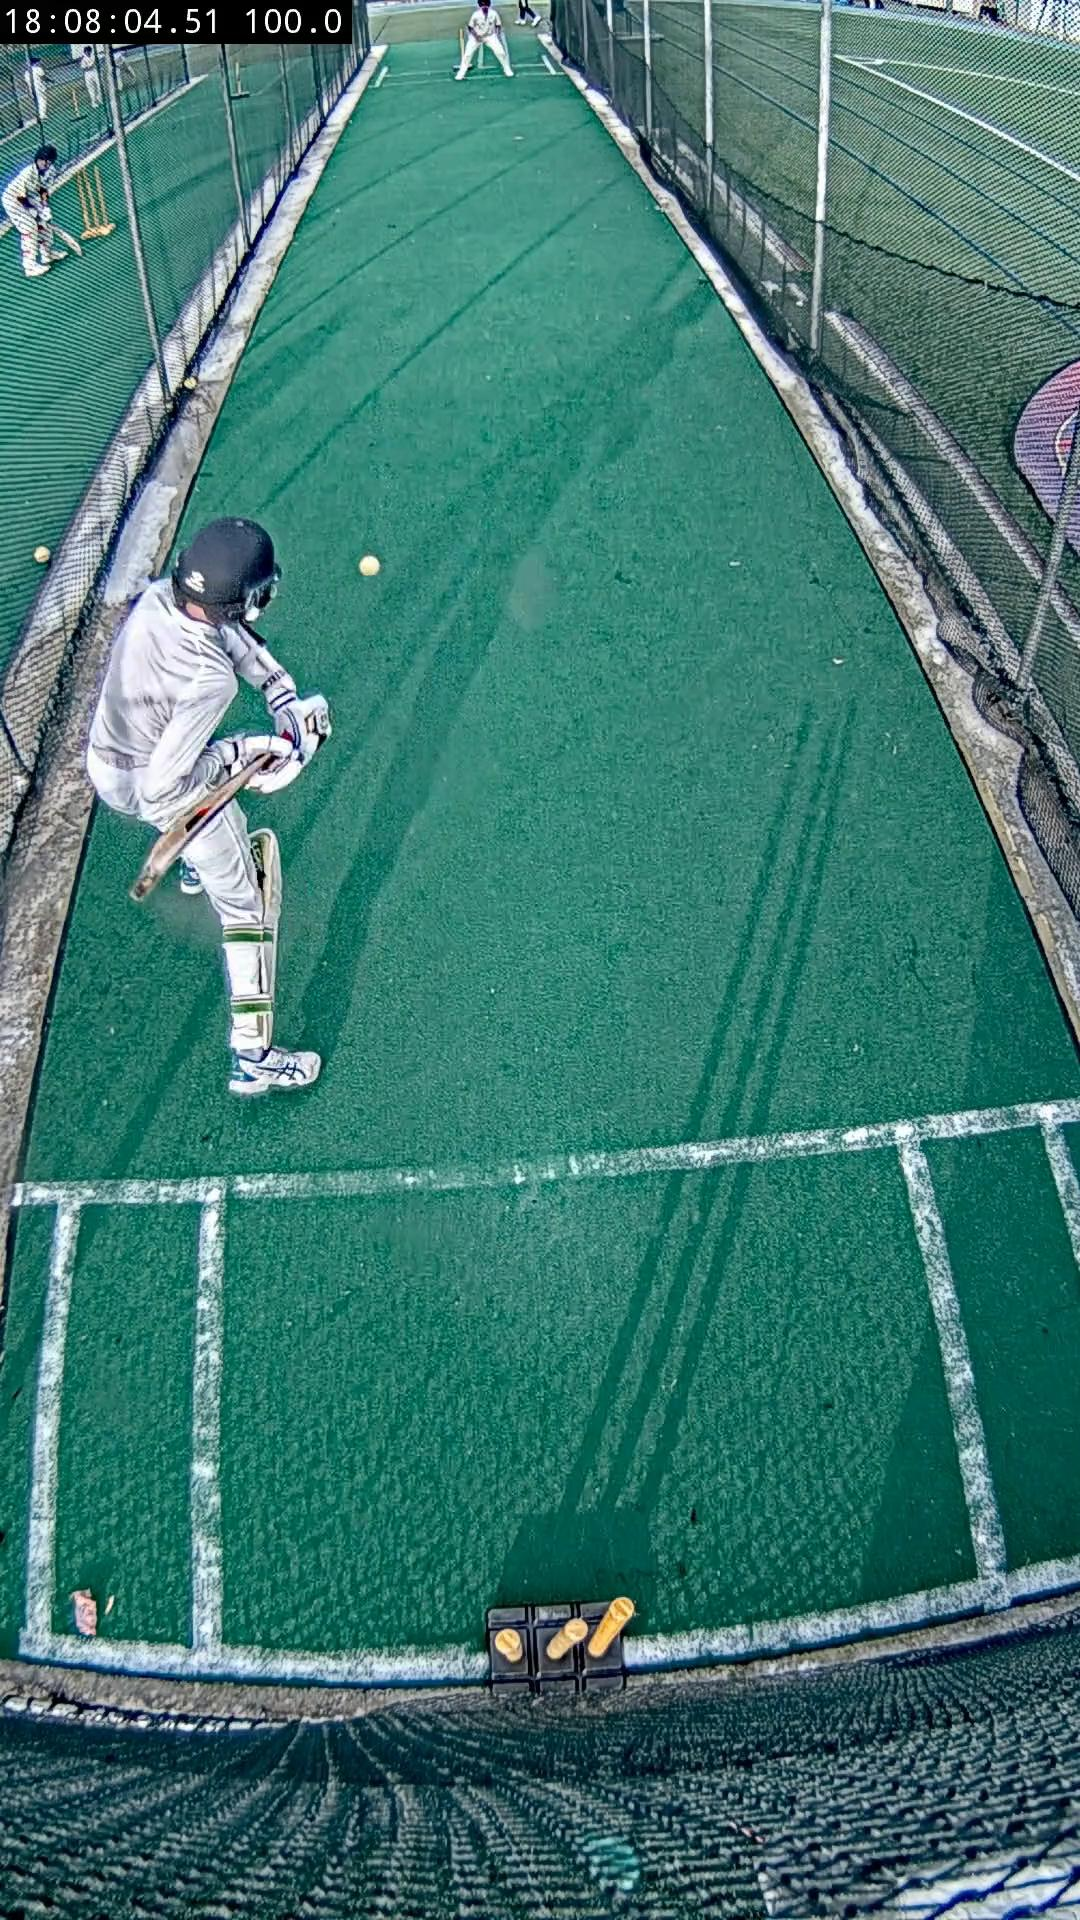ball: (360, 555, 382, 578)
bat: (132, 750, 277, 898)
gloves: (248, 694, 334, 795)
helmet: (173, 517, 281, 622)
pads: (248, 828, 281, 934)
stumps: (488, 1597, 634, 1695)
